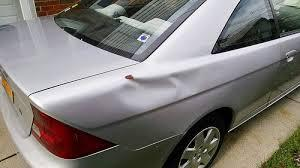quaterpanel-dent: (128, 64, 209, 136)
